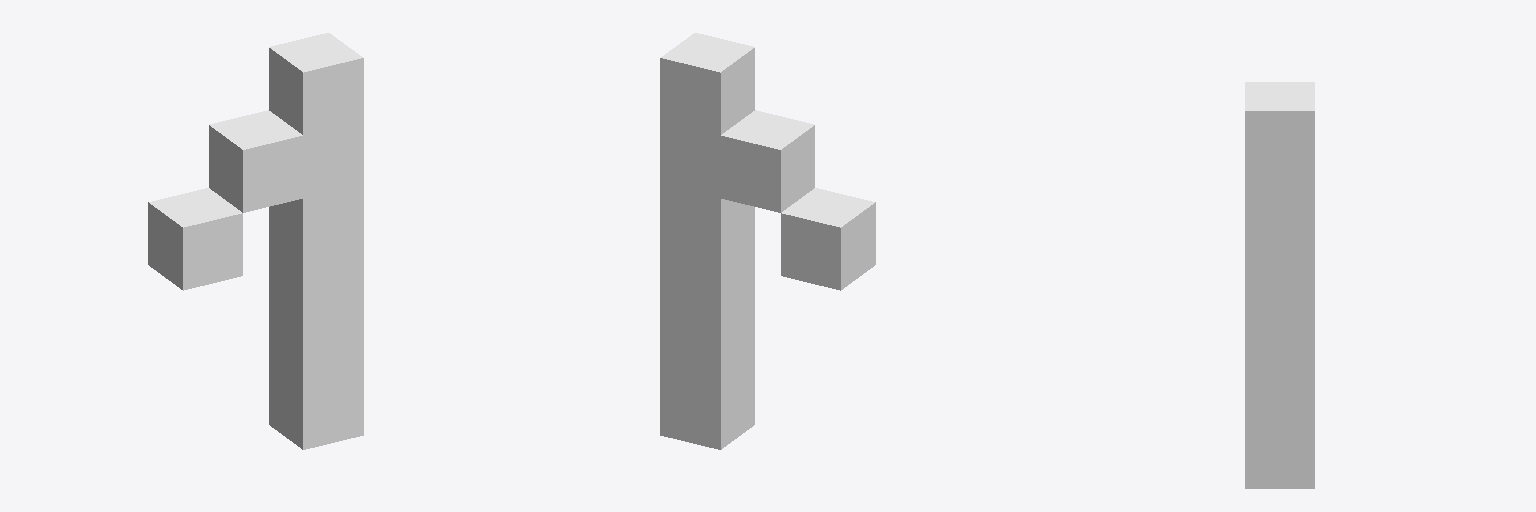
File: GORODITH_purple1.obj
The picture shows the model from 3 angles: view 1: azimuth 30°, elevation 25°; view 2: azimuth 150°, elevation 25°; view 3: azimuth 270°, elevation 25°; orthographic projection.
Parts seen in each view (by area): view 1: object 1; view 2: object 1; view 3: object 1.
Boxes of the visible parts, x1,y1,x2,y2 form: object 1: [148, 33, 363, 449]; object 1: [660, 33, 875, 449]; object 1: [1245, 82, 1314, 488].
Size of the model in its own units: 0.3 by 0.6 by 0.1.